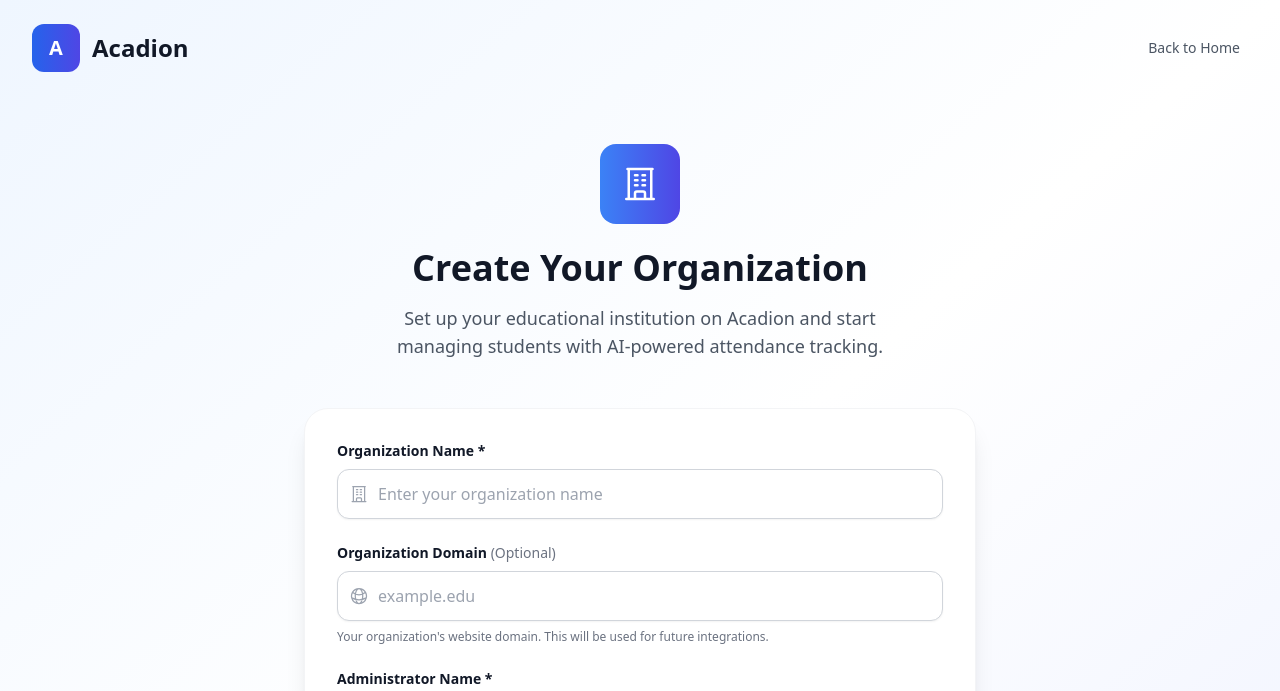
Test case: OrganizationOnboarding › Form Submission › handles form submission errors gracefully
Fill out the form
Type "Test University" into the field labelled "Organization Name *" at coordinates (640, 494), box 337,469 -> 943,519
(page scrolled)
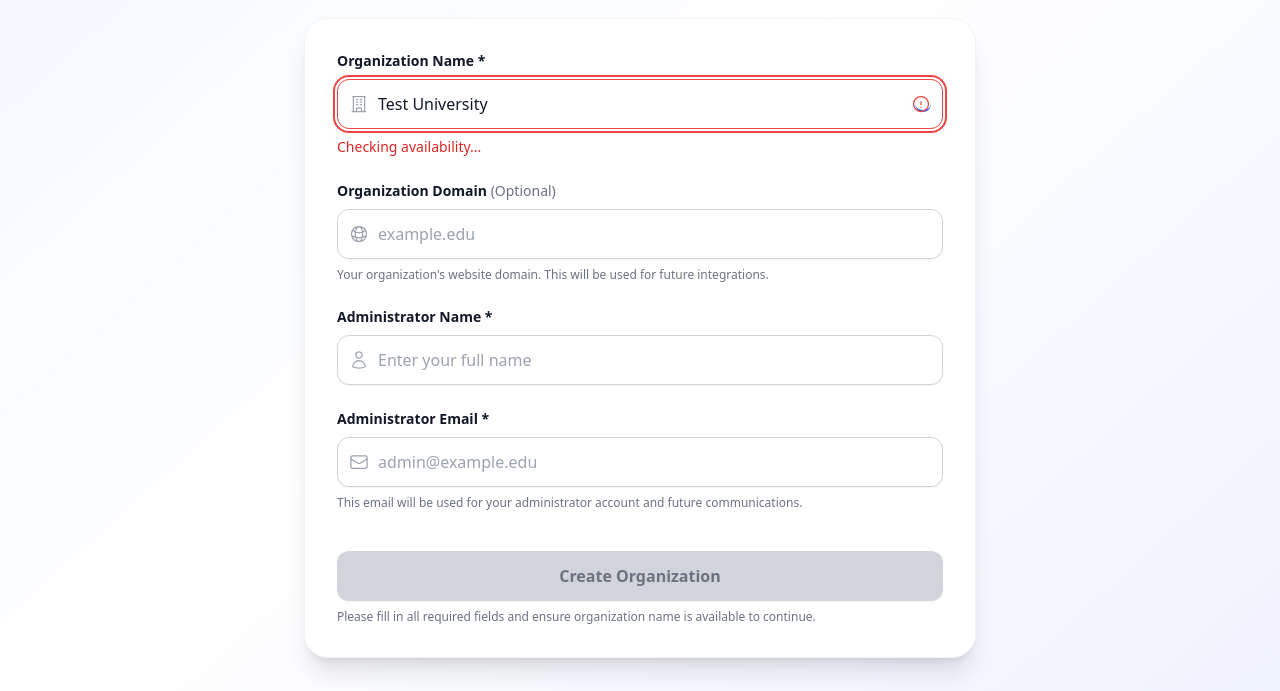
Type "John Doe" into the field labelled "Administrator Name *" at coordinates (640, 360), box 337,335 -> 943,385
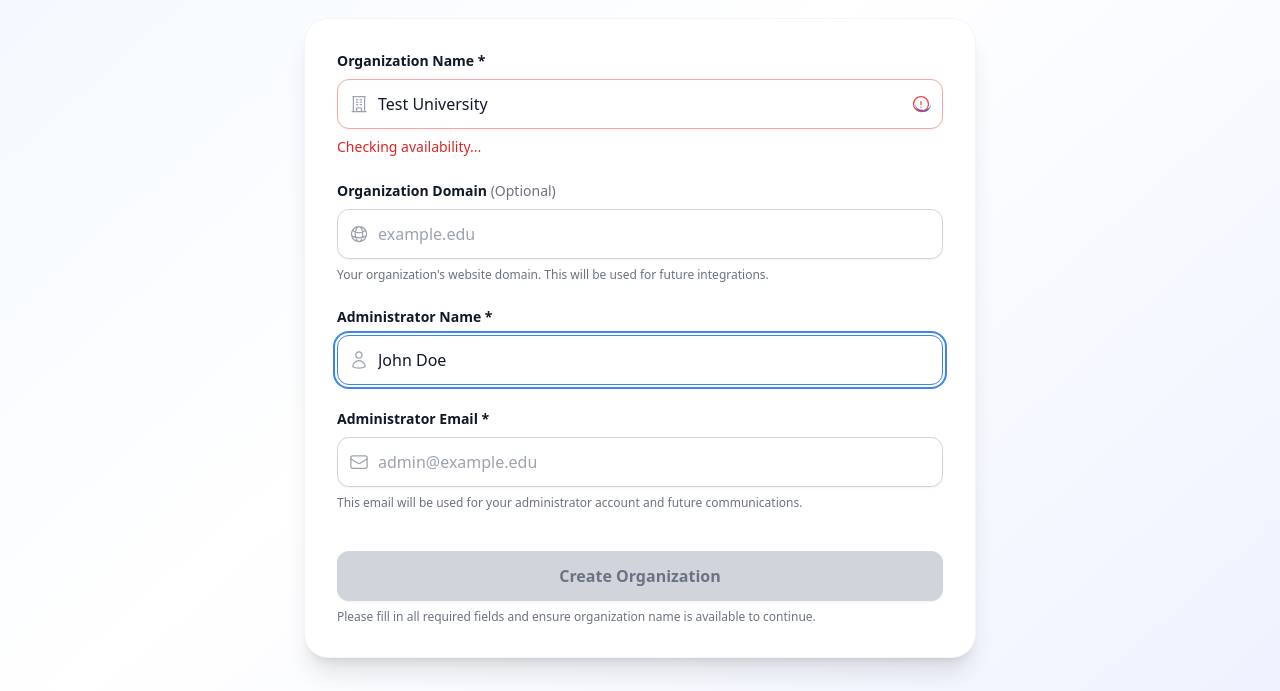
Type "john@test.edu" into the field labelled "Administrator Email *" at coordinates (640, 462), box 337,437 -> 943,487
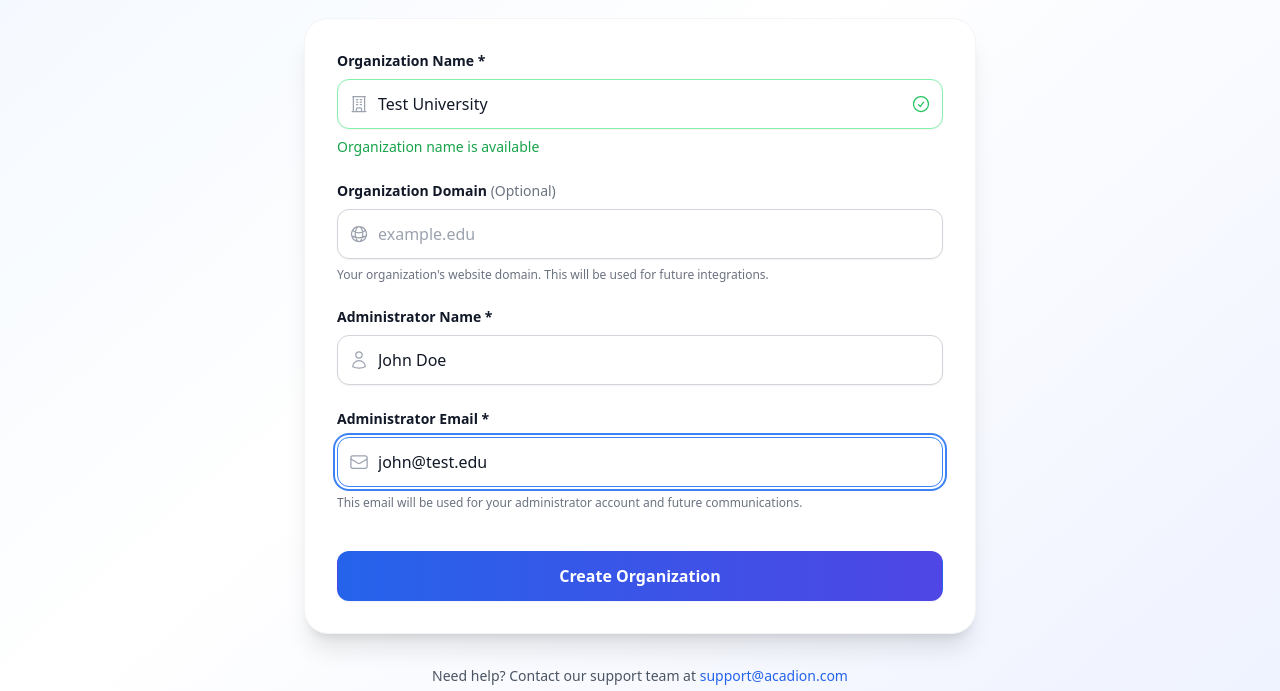
Now the text "Organization name is available" is shown, box 337,137 -> 539,157
Submit the form
Click the button "Create Organization" at coordinates (640, 576), box 337,551 -> 943,601
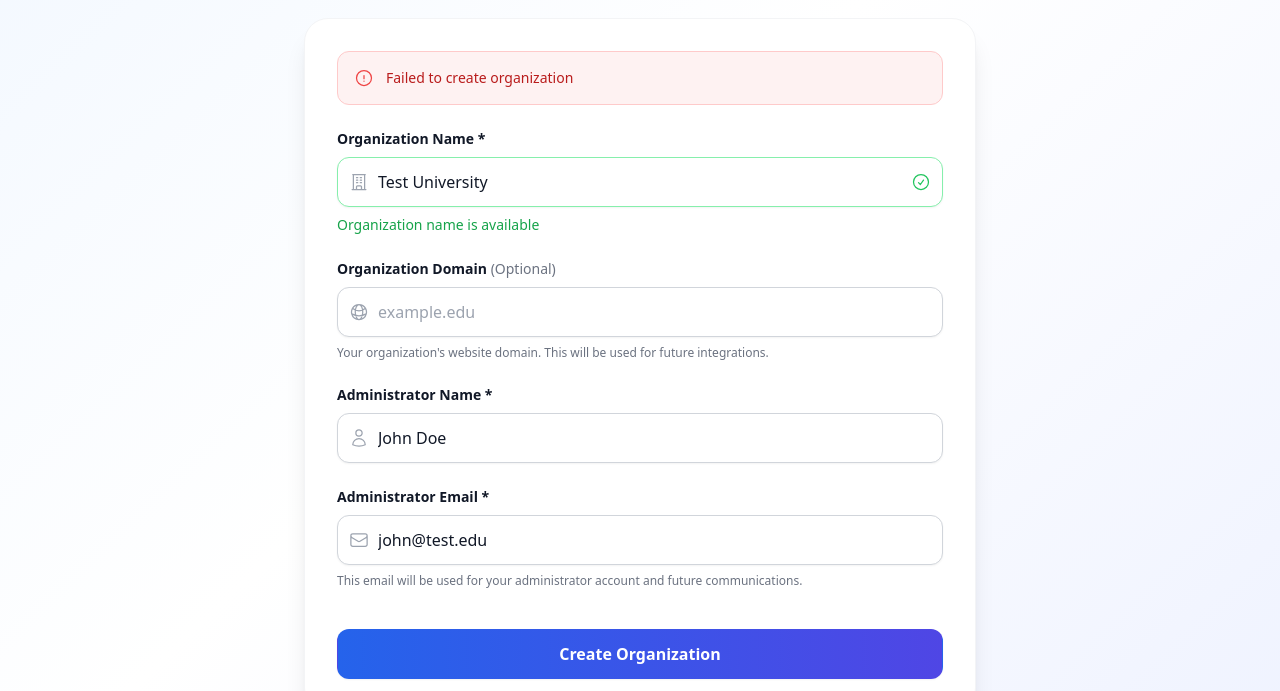
Now the text "Failed to create organization" is shown, box 386,68 -> 573,88
